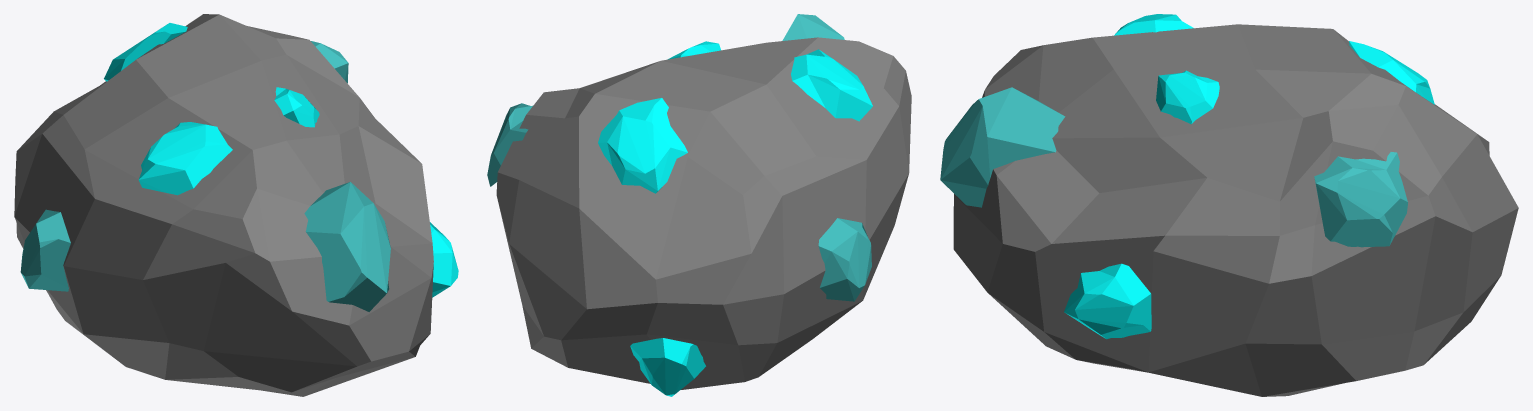
The model's file is MineralNode_07_C.fbx.
The picture shows the model from 3 angles, left to right: view 1: azimuth 30°, elevation 25°; view 2: azimuth 150°, elevation 25°; view 3: azimuth 270°, elevation 25°; orthographic projection. The views are drawn at different scales.
Visible parts, largest first — view 1: MineralNode_07_C; view 2: MineralNode_07_C; view 3: MineralNode_07_C.
Part boxes in pixels (box(x1,y1,x2,y2)): MineralNode_07_C: box(14, 14, 458, 396); MineralNode_07_C: box(487, 14, 911, 396); MineralNode_07_C: box(940, 14, 1518, 396).
Size of the model in its own units: 82 by 59.94 by 105.
